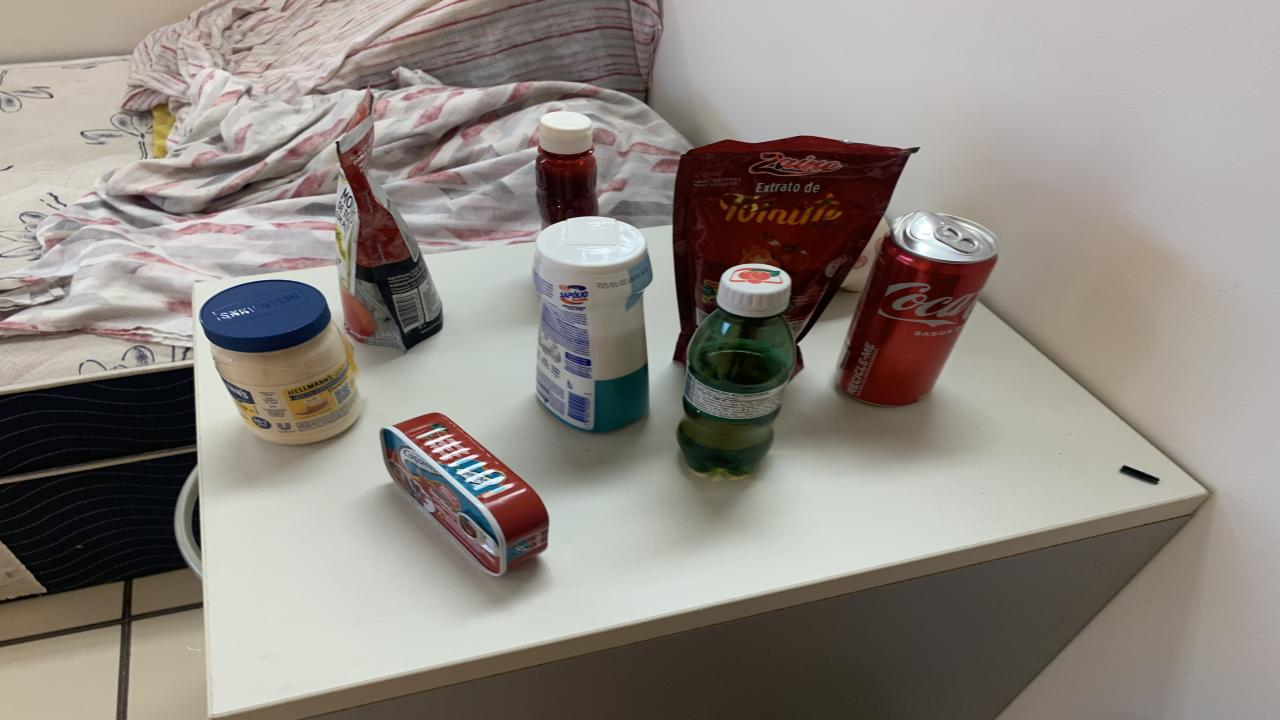Cleaner-Cleanup_Items: (532, 218, 652, 433)
Coke-Drinks: (835, 212, 998, 407)
Guarana-Drinks: (678, 262, 795, 476)
Ketchup-Pantry_Items: (535, 111, 600, 229)
Mayonnaise-Pantry_Items: (200, 279, 360, 444)
Pig_Safe-Miscellaneous: (840, 218, 890, 292)
Tomato_Sauce-Pantry_Items: (672, 135, 918, 362), (335, 90, 442, 351)
Tuna_Can-Pantry_Items: (380, 412, 550, 576)
